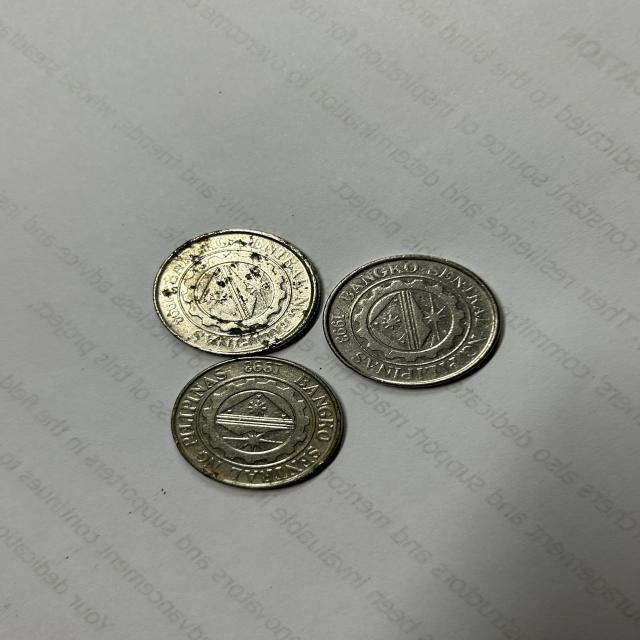1_Old_Back: (192, 371, 324, 475), (351, 271, 481, 371), (172, 244, 300, 337)
